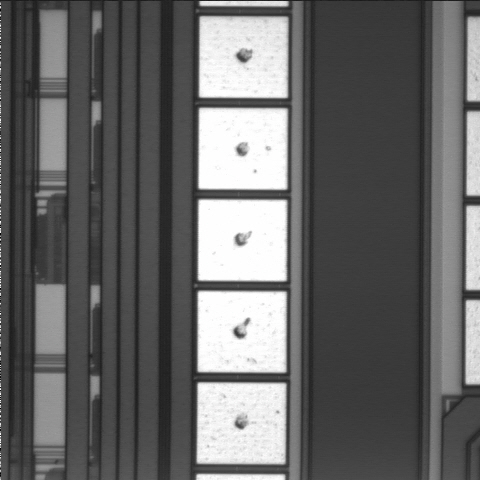pad: (198, 108, 288, 190), (199, 16, 288, 98), (198, 199, 287, 281), (198, 291, 287, 373), (197, 383, 286, 464)
